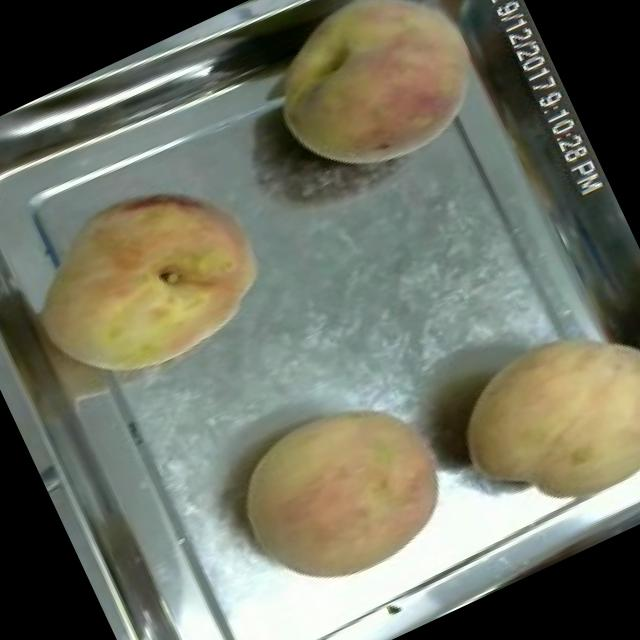Fruit: (2, 144, 296, 412), (209, 369, 475, 619), (235, 0, 510, 210), (427, 284, 640, 553)
